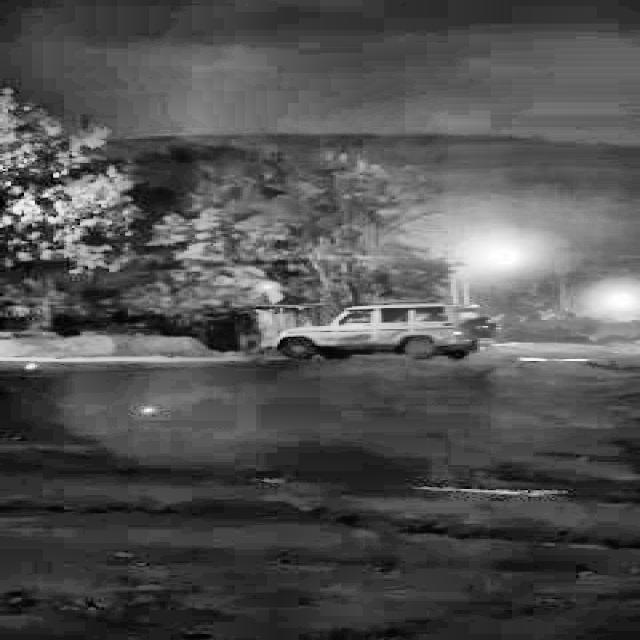light_vehicle: (258, 299, 497, 366)
